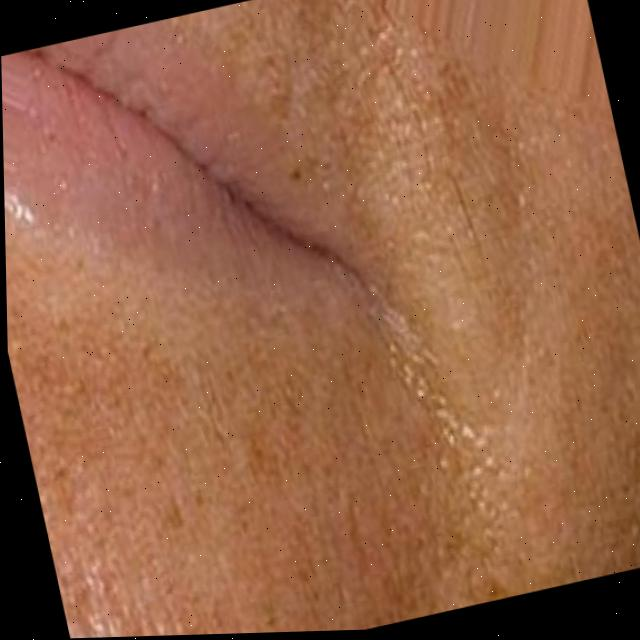Rosacea: (19, 366, 263, 640)
